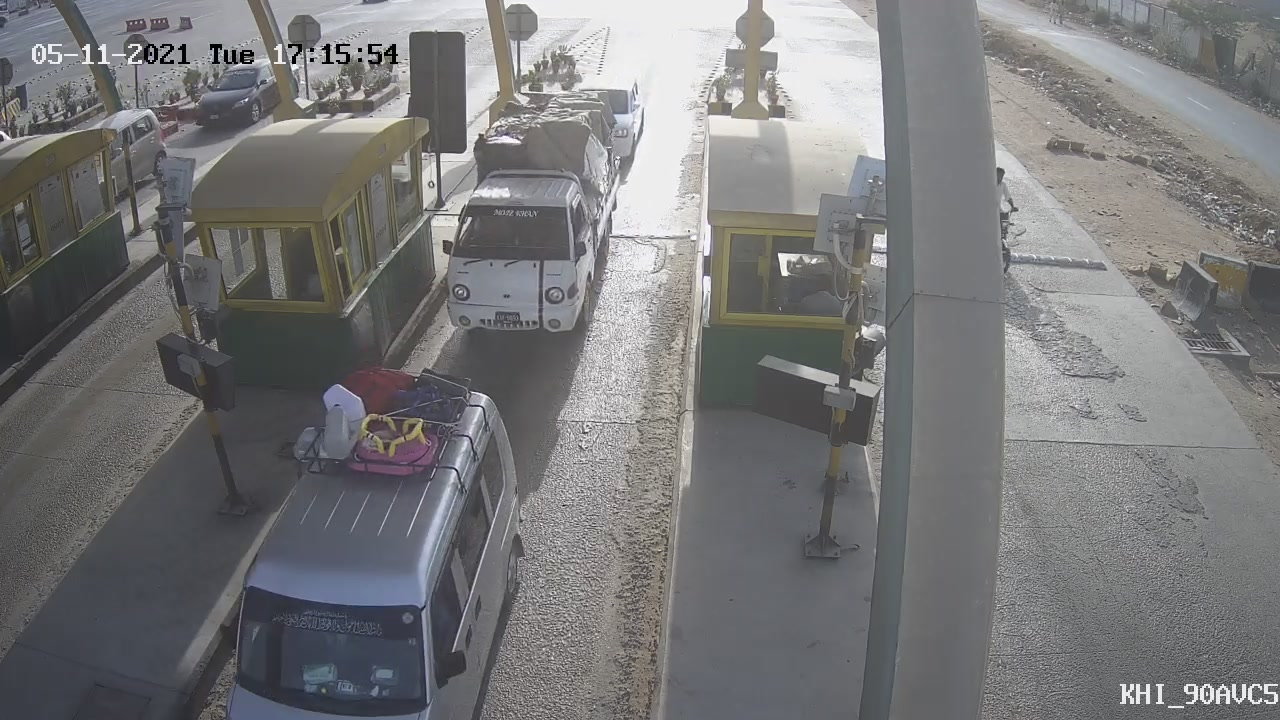F2: (411, 75, 640, 357)
